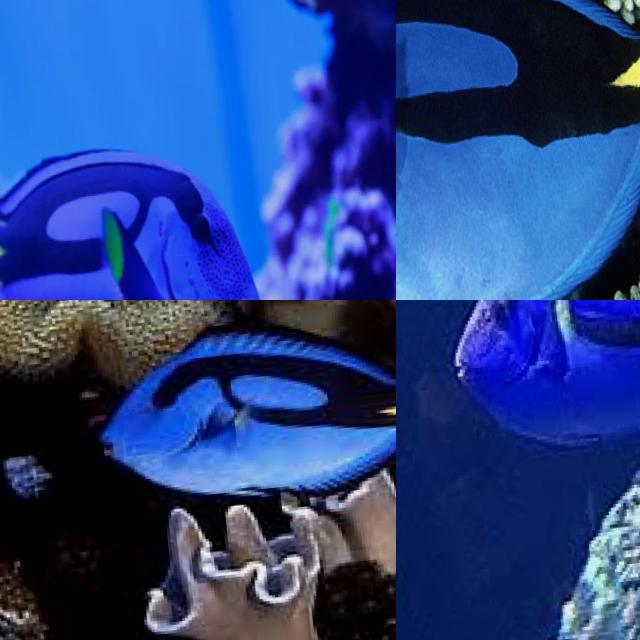BlueTang: (396, 0, 640, 300), (101, 326, 397, 492), (0, 149, 257, 300), (450, 300, 640, 447)
